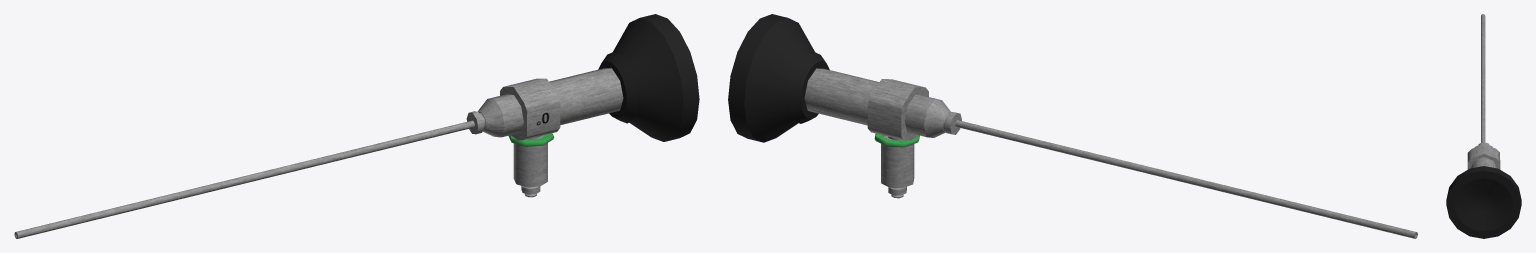
File: Estetoscopio.fbx
3 views of the same model, side by side, from view 1: azimuth 30°, elevation 25°; view 2: azimuth 150°, elevation 25°; view 3: azimuth 270°, elevation 25° (orthographic). The views are drawn at different scales.
Parts seen in each view (by area): view 1: estetoscopio; view 2: estetoscopio; view 3: estetoscopio.
Boxes of the visible parts, box(x1,y1,x2,y2) form: estetoscopio: box(14, 14, 699, 238); estetoscopio: box(728, 14, 1417, 238); estetoscopio: box(1446, 14, 1521, 238).
Size of the model in its own units: 3597 by 753 by 607.
